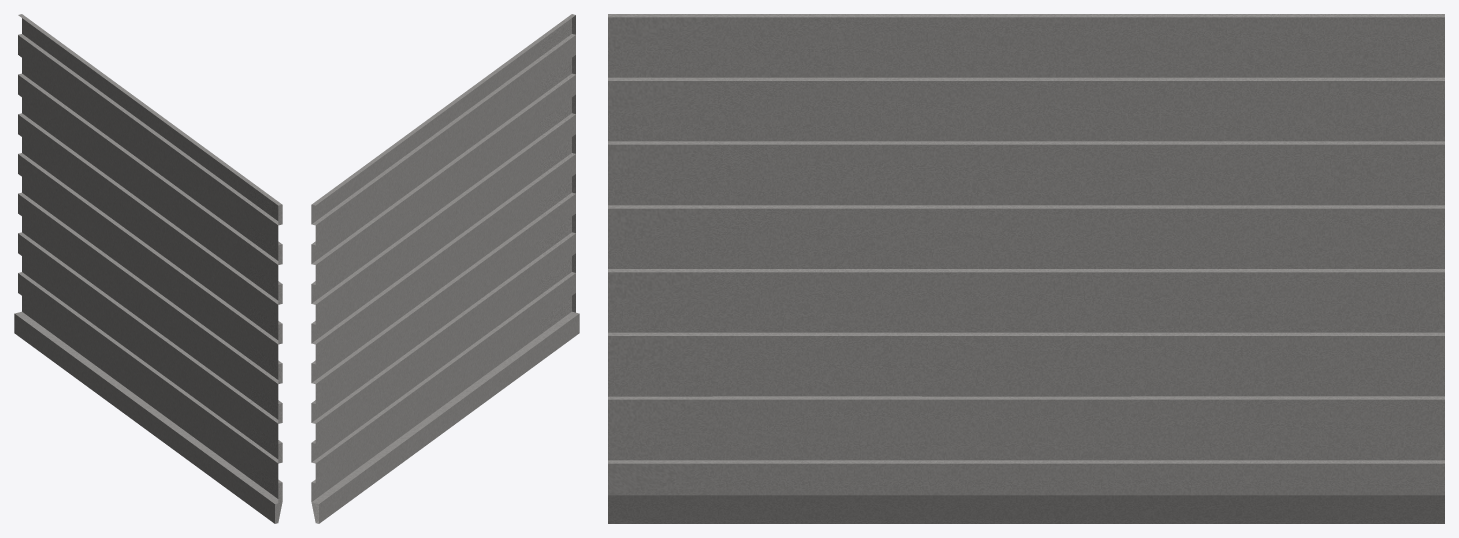
The model's file is garage door (large).obj.
The picture shows the model from 3 angles, left to right: view 1: azimuth 30°, elevation 25°; view 2: azimuth 150°, elevation 25°; view 3: azimuth 270°, elevation 25°; orthographic projection. The views are drawn at different scales.
Visible parts, largest first — view 1: garage_door_(large_Cube.008; view 2: garage_door_(large_Cube.008; view 3: garage_door_(large_Cube.008.
Boxes of the visible parts, left/top/right/bottom form: garage_door_(large_Cube.008: left=14, top=14, right=282, bottom=523; garage_door_(large_Cube.008: left=311, top=14, right=579, bottom=523; garage_door_(large_Cube.008: left=608, top=14, right=1444, bottom=523.
Bounding box in the file's own units: 0.0949 × 3.8 × 5.65.
